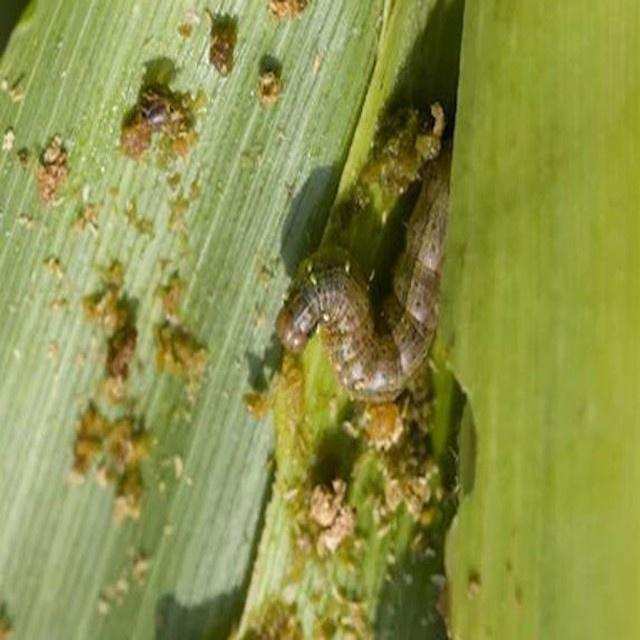Plaga: (274, 133, 457, 409)
